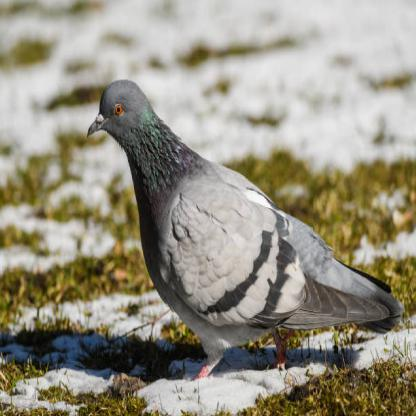Flying Rat: (83, 80, 404, 396)
